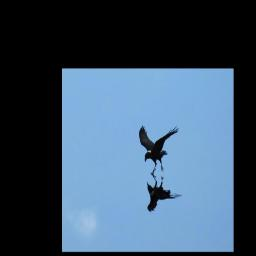Crow: (138, 125, 180, 176)
